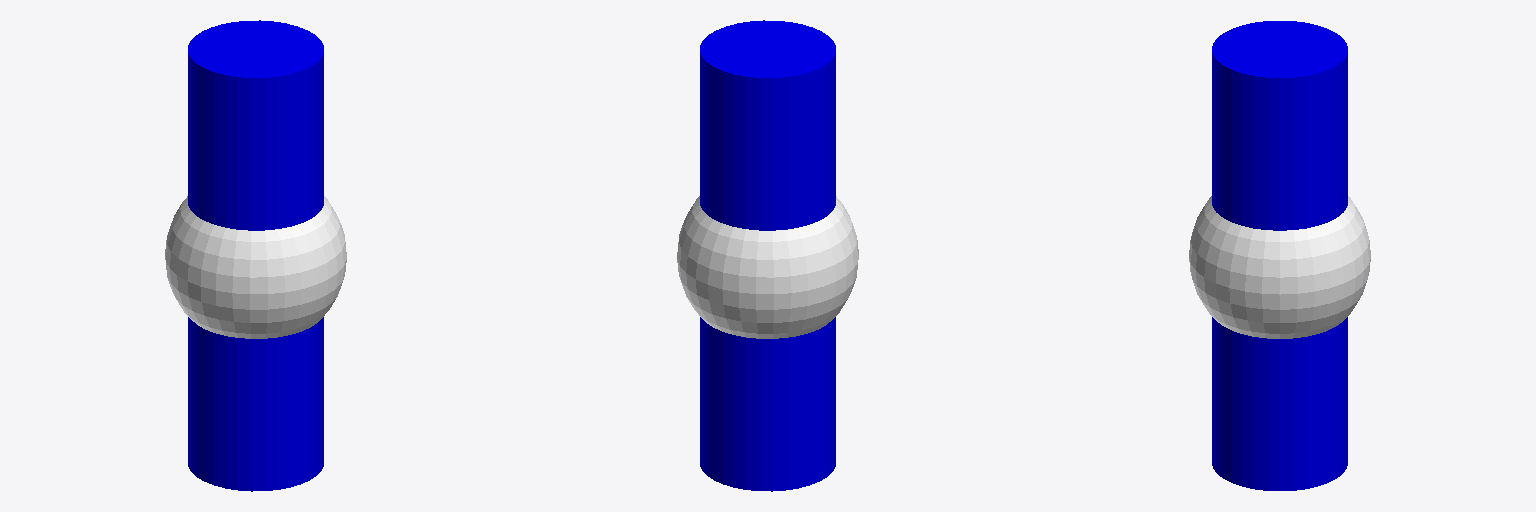
URDF robot description (pan_tilt):
<?xml version="1.0"?>
<robot name="pan_tilt">

	<!-- definire culori -->
	<material name="white">
		<color rgba="1 1 1 0.3"/>
	</material>

	<material name="blue">
		<color rgba="0 0 1 0.5"/>
	</material>

	<material name="yellow">
		<color rgba="1 1 0 1"/>
	</material>

	<material name="red">
		<color rgba="1 0 0 0.8"/>
	</material>


	<!-- baza robotului -->
	<link name="base_link">

		<!-- baza robotului VIZUAL-->
		<visual>

			<!-- baza robotului GEOMETRIE-->
			<geometry>
				<mesh filename="package://pantilt_ros/meshes/baza.STL"/>
				<!-- <box size="1 1 0.05"/> -->
			</geometry>
			<material name="red"/>
			<origin rpy="0 0 0" xyz="0 0 0.025"/>

		</visual>

	</link>


	<!-- element de tip pan -->
	<link name="pan_link">

		<!-- baza robotului VIZUAL-->
		<visual>

			<!-- baza robotului GEOMETRIE-->
			<geometry>
				<mesh filename="package://pantilt_ros/meshes/pan_stalp.STL"/>
				<!-- <box size="0.1 0.1 1"/> -->
			</geometry>
			<material name="yellow"/>
			<origin rpy="0 0 0" xyz="0 0 0.5"/>
		</visual>

	</link>

	<!-- element de tip sfera -->
	<link name="sphere_link">

		<!-- baza robotului VIZUAL-->
		<visual>

			<!-- baza robotului GEOMETRIE-->
			<geometry>
				<sphere radius="0.1"/>
			</geometry>
			<material name="white"/>
			<origin rpy="0 0 0" xyz="0 0 0"/>
		</visual>

	</link>

	<!-- element de tip tilt -->
	<link name="tilt_link">

		<!-- baza robotului VIZUAL-->
		<visual>

			<!-- baza robotului GEOMETRIE-->
			<geometry>
				<cylinder length="0.5" radius="0.075"/>
			</geometry>
			<material name="blue"/>
			<origin rpy="0 0 0" xyz="0 0 0"/>
		</visual>

	</link>


	<!--CUPLE: baza robotului & paralelipiped -->
	<joint name="pan_joint" type="revolute">
		<parent link="base_link"/>
		<child link="pan_link"/>

		<origin xyz="0 0 0.05"/>
		<axis xyz="0 0 1" />
		<limit effort="300" velocity="0.1" lower="-3.14" upper="3.14"/>
	</joint>

	<!--CUPLE: paralelipiped & sfera -->
	<joint name="sphere_joint" type="fixed">
		<parent link="pan_link"/>
		<child link="sphere_link"/>

		<origin xyz="0 0 1"/>
	</joint>

	<!--CUPLE: element pan & element tilt -->
	<joint name="tilt_joint" type="revolute">
		<parent link="pan_link"/>
		<child link="tilt_link"/>

		<origin xyz="0 0 1"/>
		<!-- e relativa distanta de la originea link1 la link2 -->
		<axis xyz="0 1 0" />
		<limit effort="300" velocity="0.1" lower="0" upper="3.14"/>
	</joint>

</robot>

--- What the picture shows (computed from the rendered views, not written in the file) ---
Views: 3 orthographic renders of the robot side by side, from view 1: azimuth 30°, elevation 25°; view 2: azimuth 150°, elevation 25°; view 3: azimuth 270°, elevation 25°.
Model pan_tilt with 4 links and 3 joints (2 revolute, 1 fixed), rooted at base_link, posed every joint at zero.
Links seen in each view (by area): view 1: tilt_link, sphere_link; view 2: tilt_link, sphere_link; view 3: tilt_link, sphere_link.
Link boxes in pixels (x1,y1,x2,y2): tilt_link: [188, 20, 323, 491]; sphere_link: [165, 196, 346, 338]; tilt_link: [700, 20, 835, 491]; sphere_link: [677, 196, 858, 338]; tilt_link: [1212, 21, 1347, 490]; sphere_link: [1189, 196, 1370, 338].
Bounding box of the posed robot: 0.2 × 0.2 × 0.5 m (x, y, z).
Meshes: 2 distinct files referenced, 0 mesh visuals loaded (none loaded); not drawn: 2 (reference not matched to a file when rendering).